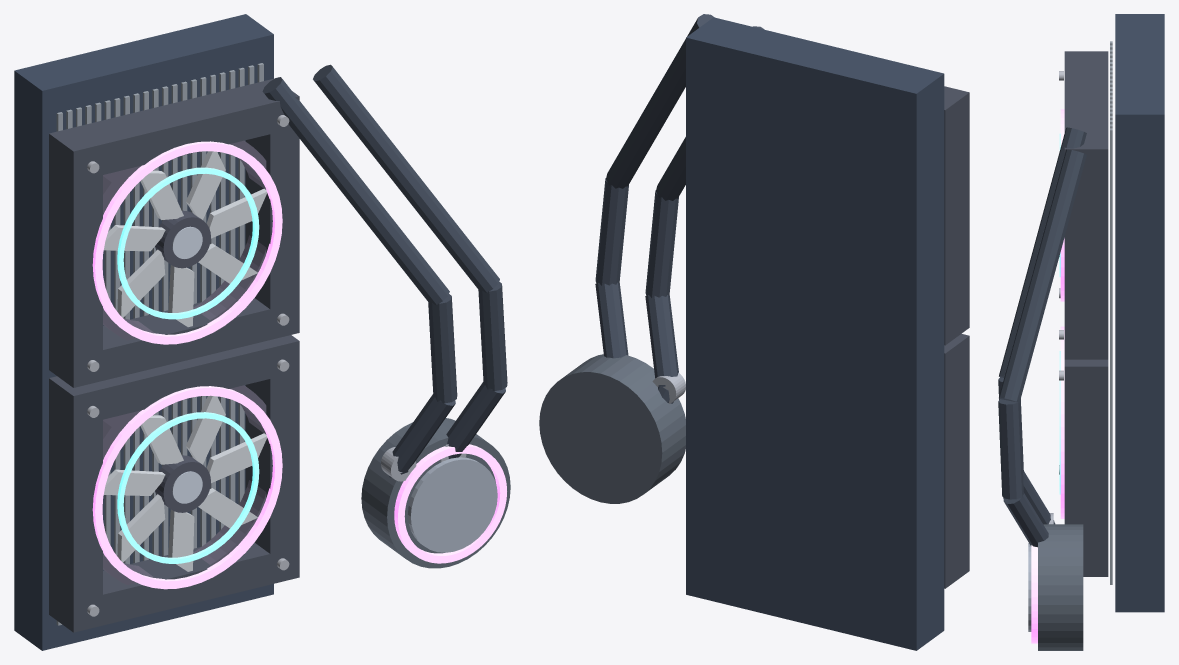
Rendered from corsair-h100i-elite-capellix-xt.glb.
3 renders of one model, left to right at view 1: azimuth 30°, elevation 25°; view 2: azimuth 150°, elevation 25°; view 3: azimuth 270°, elevation 25°, orthographic. The views are drawn at different scales.
Visible parts, largest first — view 1: radiator-0, AIO_fan_frameLeft-45, AIO_fan_frameTop-43, AIO_fan_frameLeft-25, AIO_fan_frameTop-23, AIO_fan_frameBottom-44, AIO_fan_frameBottom-24, AIO_fan_frameRight-46, AIO_fan_frameRight-26, braided_hose_1_3-75, pump_glass-65, braided_hose_0_3-69 (+43 smaller); view 2: radiator-0, pump_block-63, AIO_fan_frameLeft-25, AIO_fan_frameLeft-45, braided_hose_1_3-75, braided_hose_1_2-74, braided_hose_0_2-68, braided_hose_0_1-67, braided_hose_1_1-73, AIO_fan_frameTop-43, braided_hose_0_3-69, AIO_fan_frameTop-23 (+1 smaller); view 3: radiator-0, AIO_fan_frameRight-26, AIO_fan_frameRight-46, braided_hose_1_3-75, pump_block-63, AIO_fan_frameTop-43, braided_hose_1_2-74, braided_hose_0_3-69, radiator_fin-22, AIO_fan_frameBottom-44, braided_hose_1_1-73, AIO_fan_RGB_outer-28 (+8 smaller).
Part boxes in pixels (x1,y1,x2,y2): radiator-0: [14, 14, 273, 650]; AIO_fan_frameLeft-45: [49, 126, 102, 387]; AIO_fan_frameTop-43: [49, 78, 299, 181]; AIO_fan_frameLeft-25: [49, 377, 102, 632]; AIO_fan_frameTop-23: [49, 335, 299, 426]; AIO_fan_frameBottom-44: [49, 298, 299, 387]; AIO_fan_frameBottom-24: [49, 542, 299, 632]; AIO_fan_frameRight-46: [245, 80, 299, 332]; AIO_fan_frameRight-26: [245, 341, 299, 578]; braided_hose_1_3-75: [313, 64, 499, 292]; pump_glass-65: [407, 457, 497, 552]; braided_hose_0_3-69: [262, 77, 449, 304]; radiator-0: [686, 17, 944, 650]; pump_block-63: [539, 354, 685, 503]; AIO_fan_frameLeft-25: [944, 335, 969, 587]; AIO_fan_frameLeft-45: [944, 87, 969, 344]; braided_hose_1_3-75: [606, 14, 714, 188]; braided_hose_1_2-74: [595, 178, 628, 285]; braided_hose_0_2-68: [645, 190, 678, 297]; braided_hose_0_1-67: [645, 295, 678, 386]; braided_hose_1_1-73: [595, 282, 628, 358]; AIO_fan_frameTop-43: [944, 86, 969, 140]; braided_hose_0_3-69: [656, 26, 764, 200]; AIO_fan_frameTop-23: [944, 334, 969, 381]; radiator-0: [1115, 14, 1164, 612]; AIO_fan_frameRight-26: [1064, 359, 1108, 576]; AIO_fan_frameRight-46: [1064, 136, 1108, 359]; braided_hose_1_3-75: [999, 149, 1086, 403]; pump_block-63: [1038, 524, 1083, 650]; AIO_fan_frameTop-43: [1064, 51, 1108, 176]; braided_hose_1_2-74: [998, 399, 1023, 499]; braided_hose_0_3-69: [999, 127, 1086, 377]; radiator_fin-22: [1110, 128, 1112, 584]; AIO_fan_frameBottom-44: [1064, 332, 1108, 359]; braided_hose_1_1-73: [1003, 493, 1048, 547]; AIO_fan_RGB_outer-28: [1060, 326, 1064, 518].
Bounding box in the file's own units: 2.2 × 2.77 × 0.8399.
